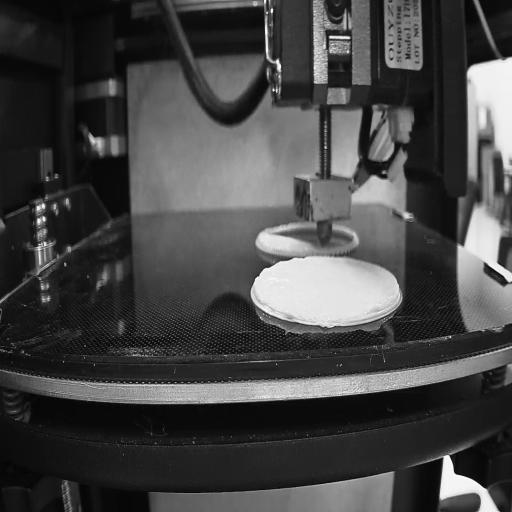over_extrusion: (368, 285, 405, 317), (254, 264, 272, 304)
